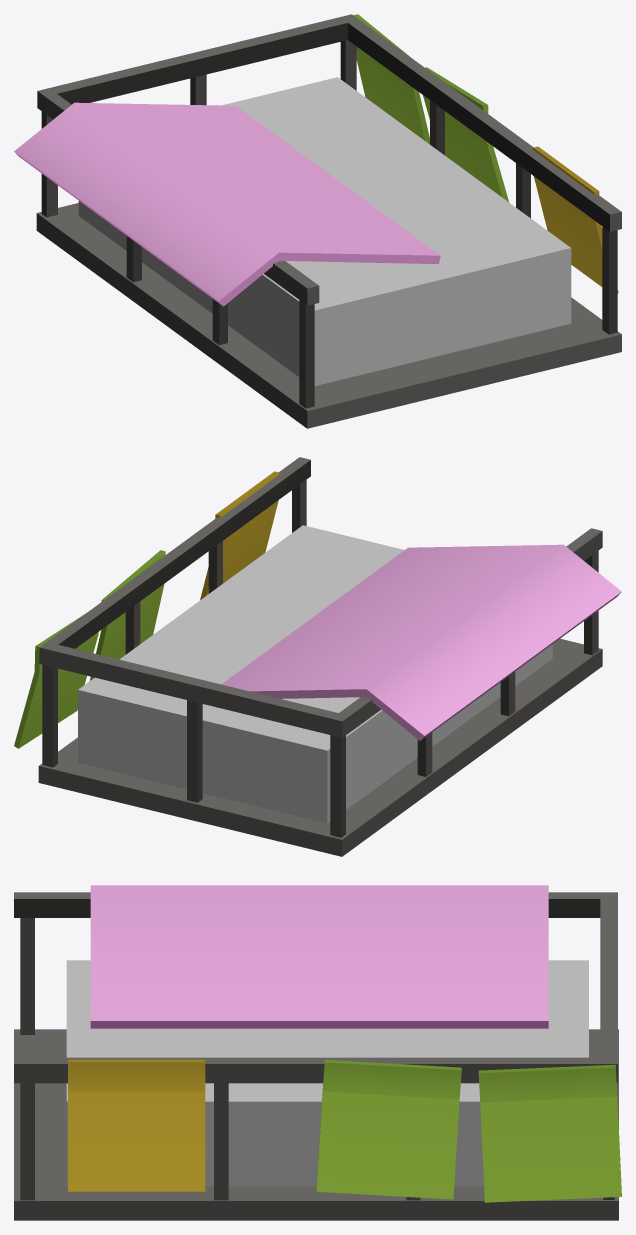
Rendered from SO_PaperTray_04.fbx.
3 views of the same model, one above another, from view 1: azimuth 30°, elevation 25°; view 2: azimuth 150°, elevation 25°; view 3: azimuth 270°, elevation 25° (orthographic). The views are drawn at different scales.
Parts seen in each view (by area): view 1: SO_PaperTray_04; view 2: SO_PaperTray_04; view 3: SO_PaperTray_04.
Boxes of the visible parts, <box> form: SO_PaperTray_04: <box>14,14,621,428</box>; SO_PaperTray_04: <box>14,457,621,856</box>; SO_PaperTray_04: <box>14,885,621,1220</box>.
Bounding box in the file's own units: 0.7217 × 0.2737 × 0.864.
